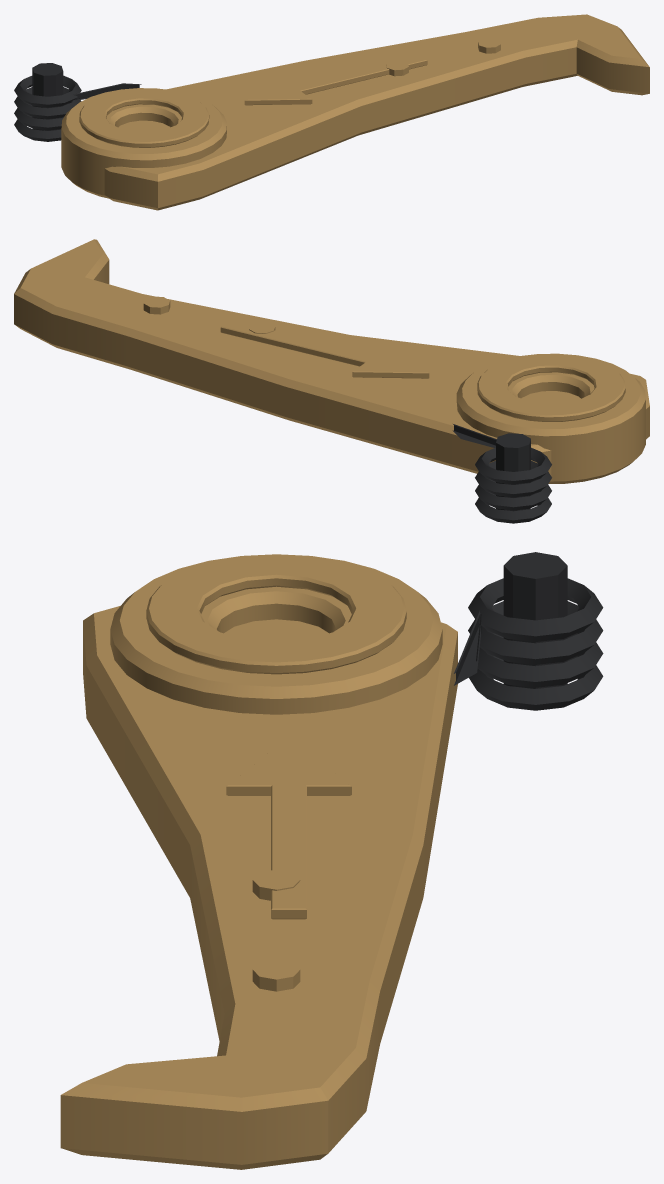
File: reverse_pawl.glb
3 renders of one model, top to bottom at view 1: azimuth 30°, elevation 25°; view 2: azimuth 150°, elevation 25°; view 3: azimuth 270°, elevation 25°, orthographic. The views are drawn at different scales.
Visible parts, largest first — view 1: reverse_pawl, spring; view 2: reverse_pawl, spring; view 3: reverse_pawl, spring.
Boxes of the visible parts, x1,y1,x2,y2 form: reverse_pawl: (61, 14, 649, 210); spring: (14, 63, 141, 141); reverse_pawl: (14, 239, 649, 483); spring: (452, 424, 551, 523); reverse_pawl: (60, 554, 457, 1169); spring: (454, 552, 603, 710).
Bounding box in the file's own units: 0.094 × 0.0101 × 0.0408.
